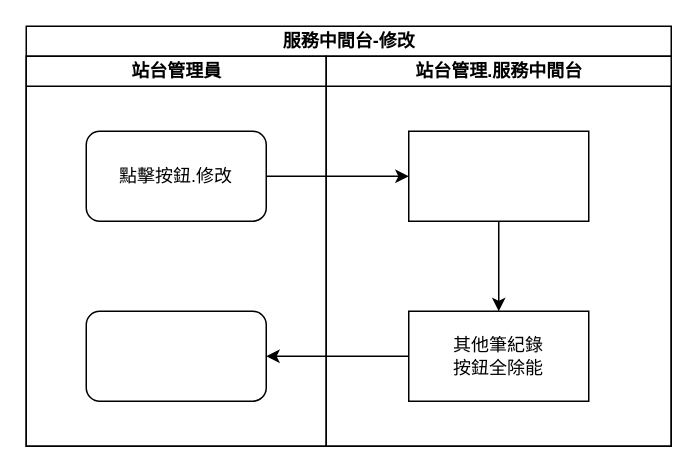
Image size: 698x473. Some labels were removed from this diagram. Each missing label, with the centre of its shape:
該筆紀錄設定為 編輯狀態: the point at 498,175
顯示畫面: the point at 175,355
